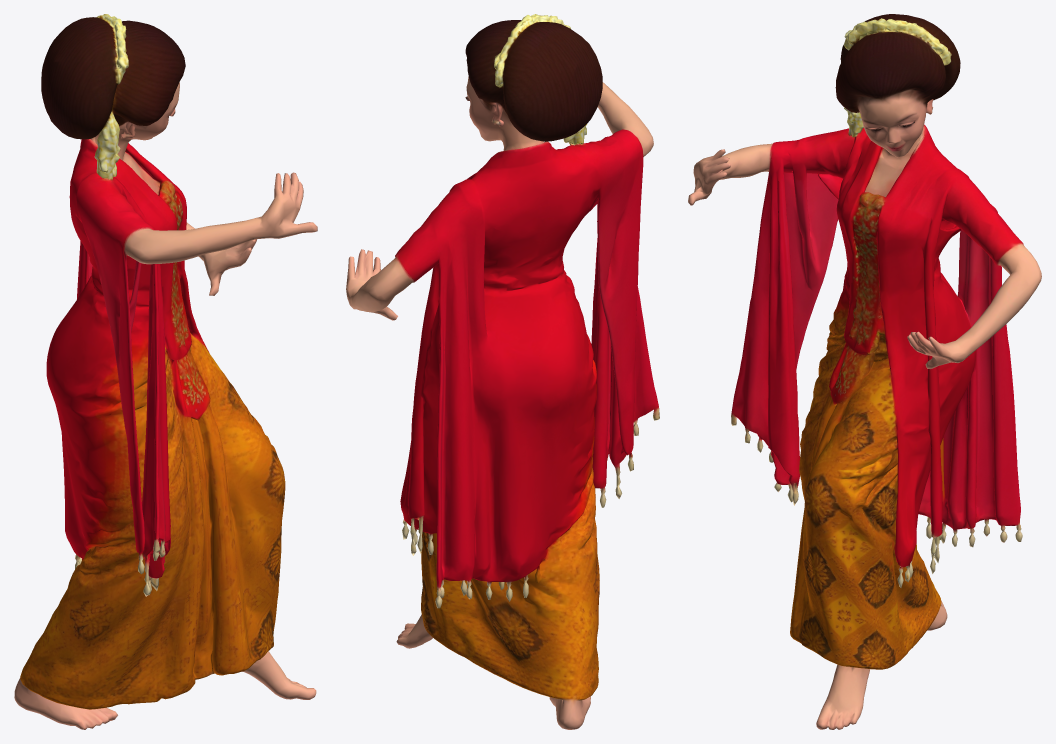
The model's file is traditional_dressed_woman.glb.
3 renders of one model, left to right at view 1: azimuth 30°, elevation 25°; view 2: azimuth 150°, elevation 25°; view 3: azimuth 270°, elevation 25°, orthographic. The views are drawn at different scales.
Visible parts, largest first — view 1: tripo_node_89d65102-11b1-4bdd-a1d3-b2e39fc787a3; view 2: tripo_node_89d65102-11b1-4bdd-a1d3-b2e39fc787a3; view 3: tripo_node_89d65102-11b1-4bdd-a1d3-b2e39fc787a3.
Part boxes in pixels (x1,y1,x2,y2): tripo_node_89d65102-11b1-4bdd-a1d3-b2e39fc787a3: [14, 14, 317, 729]; tripo_node_89d65102-11b1-4bdd-a1d3-b2e39fc787a3: [346, 14, 659, 729]; tripo_node_89d65102-11b1-4bdd-a1d3-b2e39fc787a3: [688, 14, 1041, 729].
Bounding box in the file's own units: 0.3612 × 1 × 0.5007.
1 material, 1 textured.
